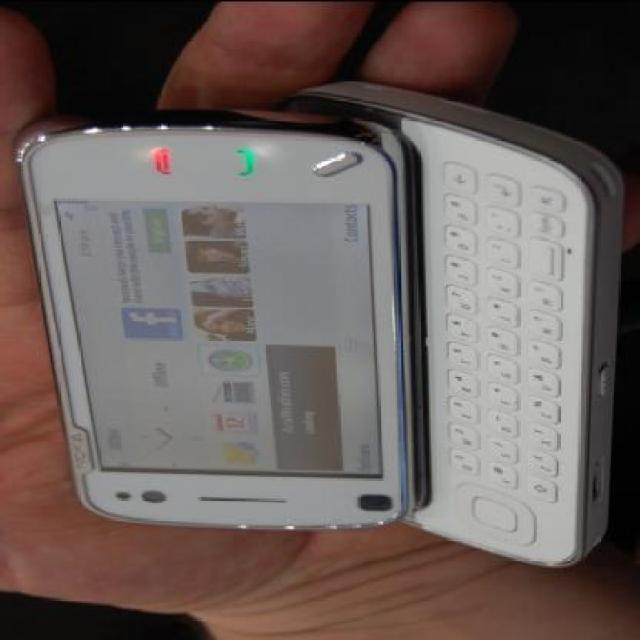phone: (19, 91, 607, 579)
